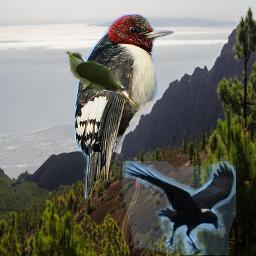Crow: (122, 161, 236, 255)
Cuckoo: (64, 51, 140, 109)
Woodpecker: (74, 14, 175, 199)
